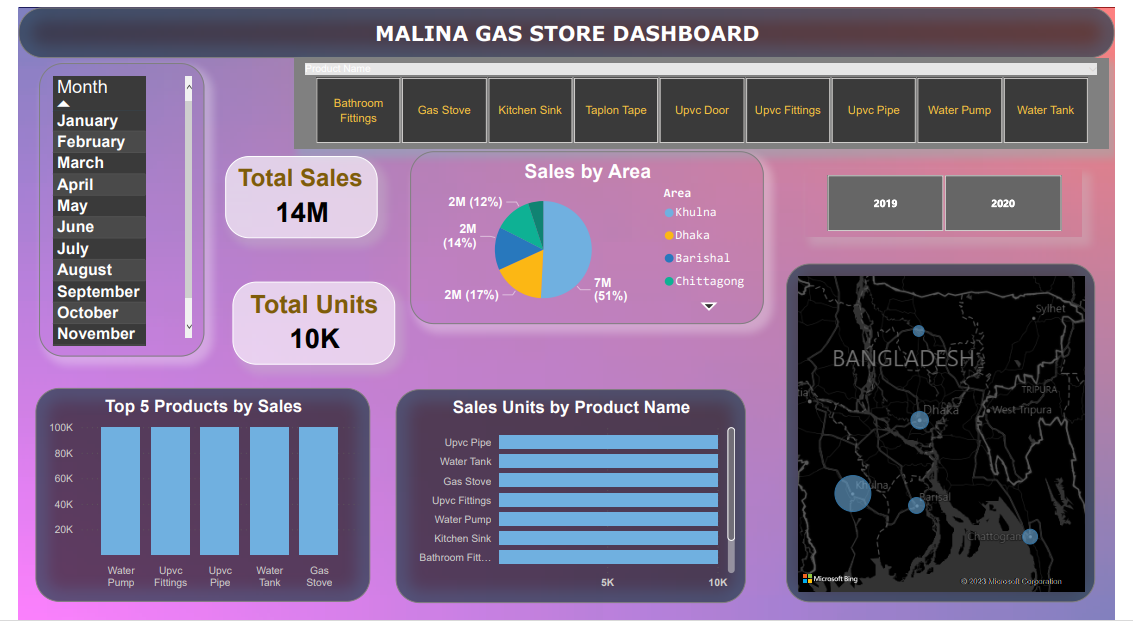

This screenshot's page, from the dashboard's own definition file:
{"tool":"powerbi","page":{"name":"Page 1","canvas":[1280,720],"ordinal":0},"visuals":[{"type":"lineClusteredColumnComboChart","title":"Top 5 Products by Sales","fields":{"Category":["Sales_Dashboard.Product Name"],"Y":["Sum(Sales_Dashboard.Total)"]},"box":[20.2,445.1,391.4,250.3],"z":1000},{"type":"textbox","box":[0,0,1280.5,59.3],"z":2000},{"type":"pieChart","title":"Sales by Area","fields":{"Category":["Sales_Dashboard.Area"],"Y":["Sum(Sales_Dashboard.Total)"]},"box":[456.9,168,413.2,201.6],"z":3000},{"type":"slicer","fields":{"Values":["Sales_Dashboard.Product Name"]},"box":[322.5,58.8,950.8,105.8],"z":4000},{"type":"card","title":"Total Sales","fields":{"Values":["Sum(Sales_Dashboard.Total)"]},"box":[241.9,173,178.1,95.7],"z":5000},{"type":"card","title":"Total Units","fields":{"Values":["CountNonNull(Sales_Dashboard.Sales Units)"]},"box":[250.3,320.8,189.8,97.4],"z":6000},{"type":"tableEx","fields":{"Values":["Sales_Dashboard.Date.Variation.Date Hierarchy.Month"]},"box":[23.5,65.5,193.2,342.7],"z":7000},{"type":"map","fields":{"Category":["Sales_Dashboard.Area"],"Size":["Sum(Sales_Dashboard.Total)"]},"box":[897,299,361.2,396.4],"z":8000},{"type":"slicer","fields":{"Values":["Sales_Dashboard.Date.Variation.Date Hierarchy.Year"]},"box":[918.8,189.8,322.5,79],"z":9000},{"type":"clusteredBarChart","title":"Sales Units by Product Name","fields":{"Category":["Sales_Dashboard.Product Name"],"Y":["Sum(Sales_Dashboard.Sales Units)"]},"box":[440.5,446.1,409.4,249.9],"z":9001}]}

Visuals, with their boxes in screenshot pixels (x1, y1, x2, y2), scaled from the page's 1280x720 canvas onto the 1133x621 screenshot:
"Top 5 Products by Sales" lineClusteredColumnComboChart: (18, 384, 364, 600)
textbox: (0, 0, 1132, 51)
"Sales by Area" pieChart: (404, 145, 770, 319)
slicer - Sales_Dashboard.Product Name: (285, 51, 1127, 142)
"Total Sales" card: (214, 149, 372, 232)
"Total Units" card: (222, 277, 390, 361)
tableEx - Sales_Dashboard.Date.Variation.Date Hierarchy.Month: (21, 56, 192, 352)
map - Sales_Dashboard.Area x Sum(Sales_Dashboard.Total): (794, 258, 1114, 600)
slicer - Sales_Dashboard.Date.Variation.Date Hierarchy.Year: (813, 164, 1099, 232)
"Sales Units by Product Name" clusteredBarChart: (390, 385, 752, 600)
